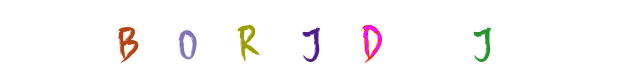7: (331, 0, 411, 80)
B: (150, 0, 230, 80)
D: (278, 0, 358, 80)
J: (227, 0, 307, 80), (444, 0, 524, 80)
O: (206, 0, 286, 80)
R: (214, 0, 294, 80)
